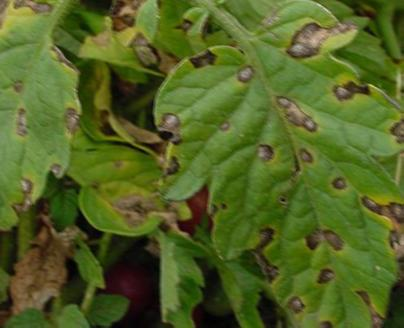Tomato Septoria leaf spot: (155, 0, 404, 324), (0, 0, 88, 237)
